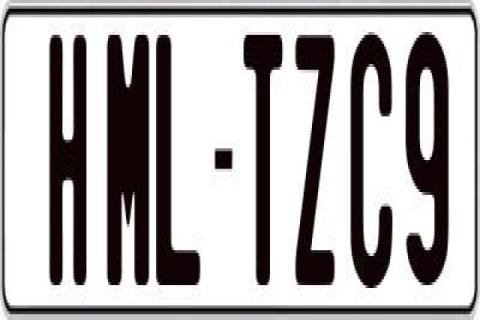0: (402, 26, 448, 282)
C: (348, 29, 394, 285)
H: (50, 32, 92, 291)
L: (154, 26, 202, 282)
M: (104, 27, 152, 286)
T: (240, 26, 278, 294)
Z: (294, 32, 338, 285)
